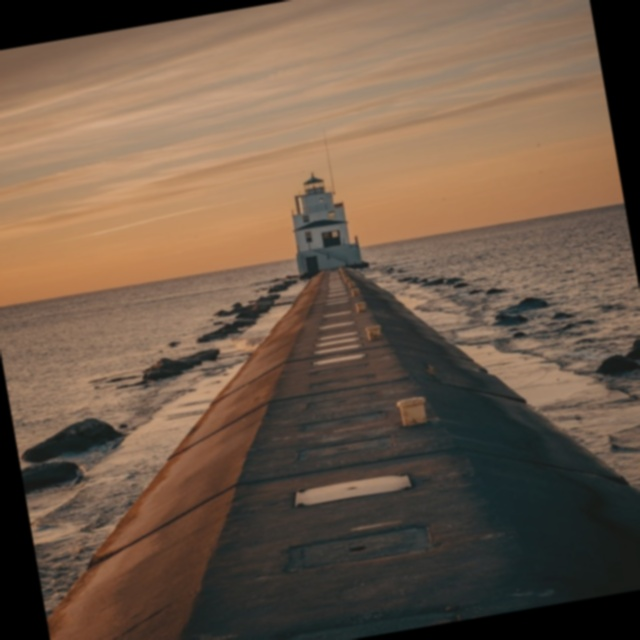clean_water: (13, 13, 627, 627)
oil_spill: (184, 394, 640, 640)
turbid_water: (0, 0, 640, 640)
